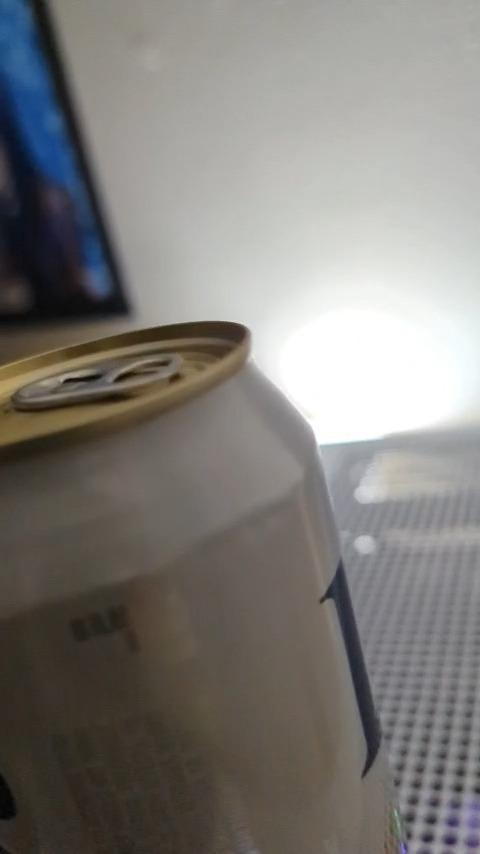metal: (0, 322, 386, 853)
